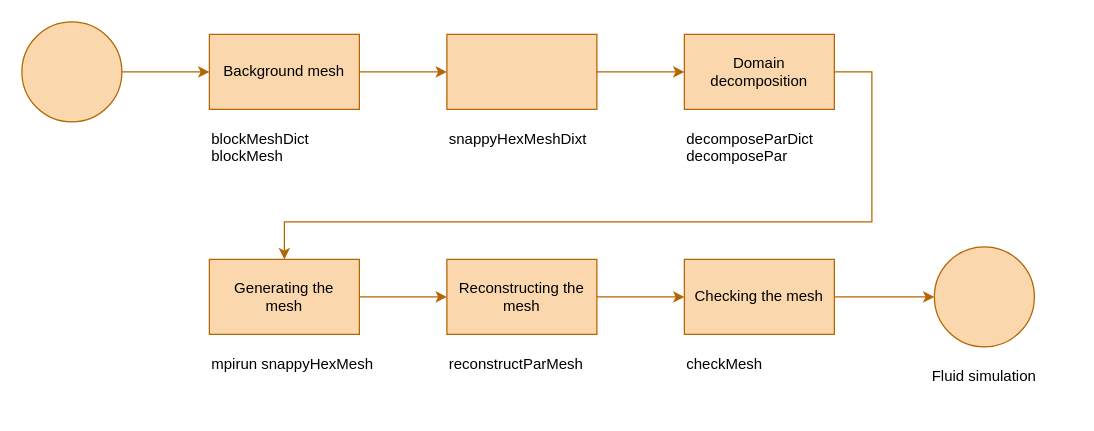
This 1094x431 diagram has some shape labels left out. The centre of each missing label's shape, as x and y in pixels:
Configuring snappyHexMesh: (521,71)
Next step: (983,296)
Start: (71,71)
